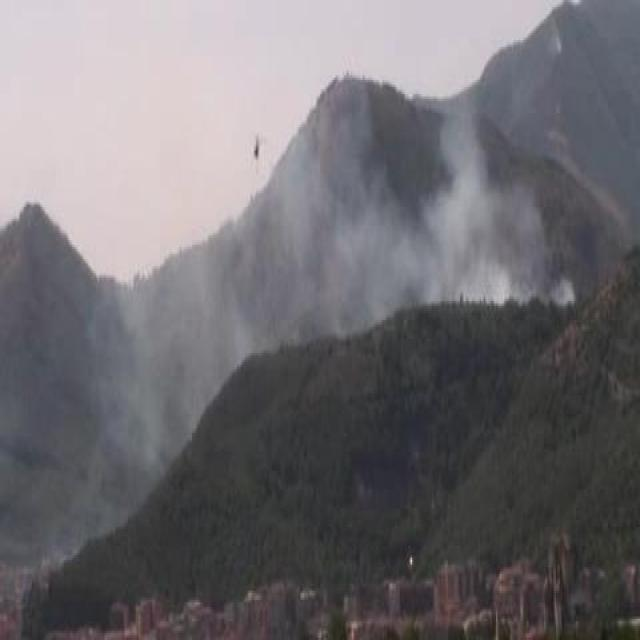Smoke: (334, 93, 530, 300), (107, 259, 237, 433)
